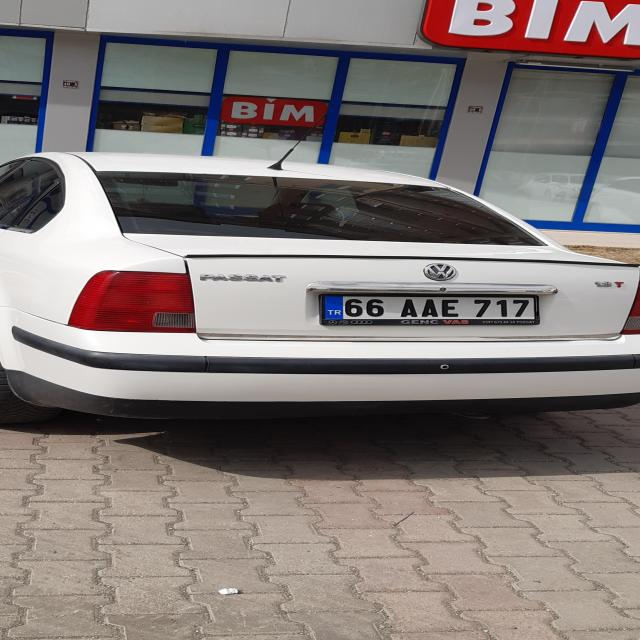plate: (321, 296, 537, 320)
